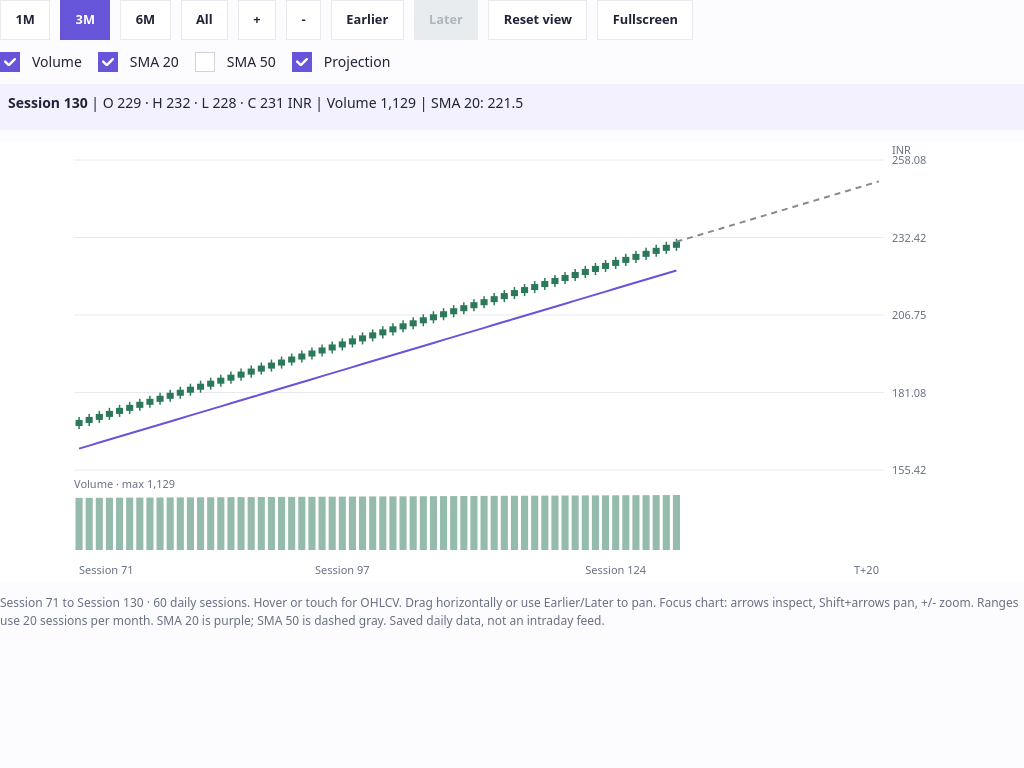
Test case: computes averages from full history, toggles indicators and enters/exits fullscreen
The width and height of the screenshot is (1024, 768).
Click the button "1M" at (25, 20), box [0,0,50,40]
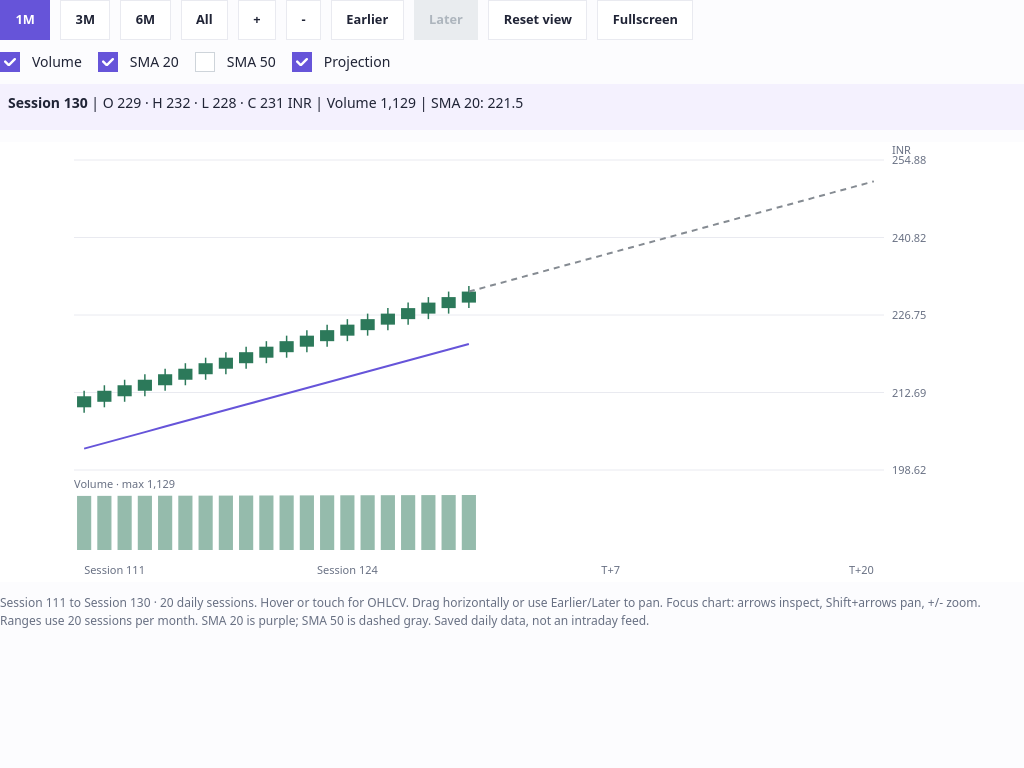
Click the button named "Zoom in" at (257, 20), box [238,0,276,40]
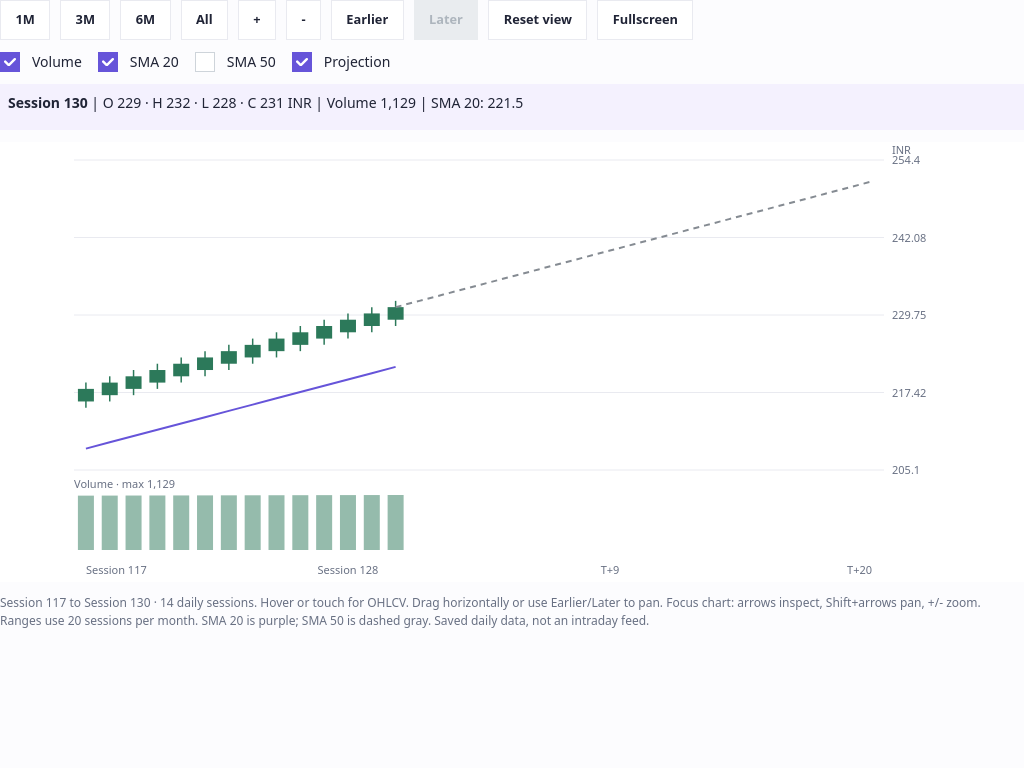
Expected: the element named "Selected chart values" shows "SMA 20: 221.5", [416,93,523,112]
Click the checkbox labelled "SMA 50" at (205, 62), box [195,52,215,72]
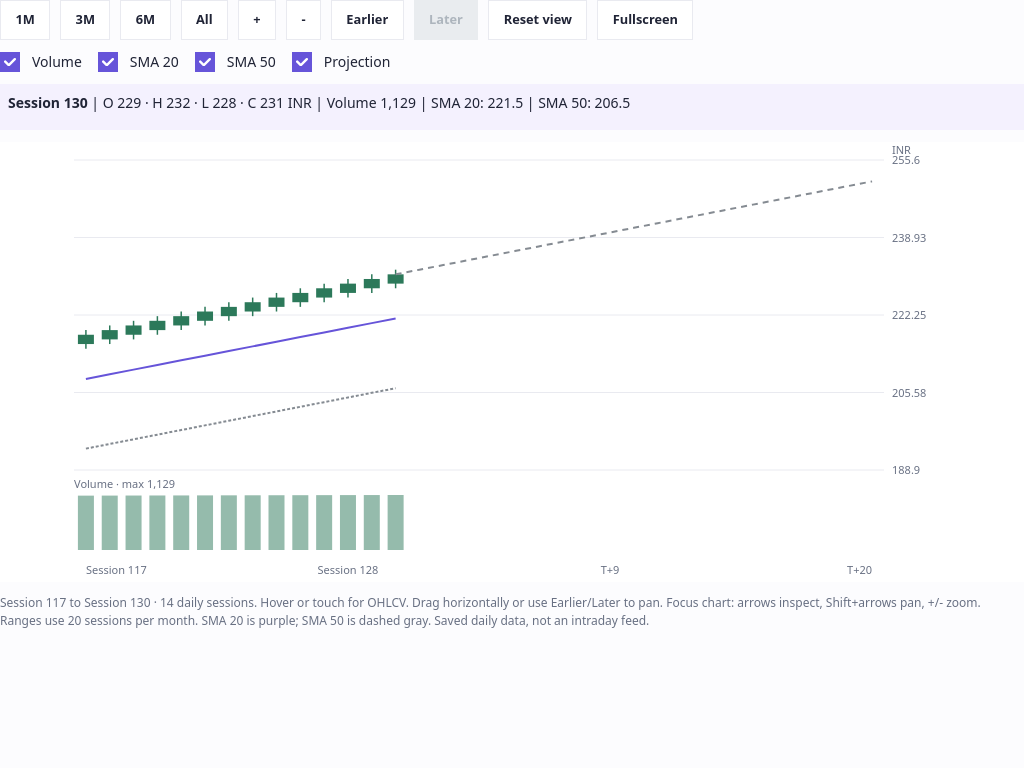
Expected: the element named "Selected chart values" shows "SMA 50: 206.5", [523,93,630,112]
Click the checkbox labelled "Volume" at (10, 62), box [0,52,20,72]
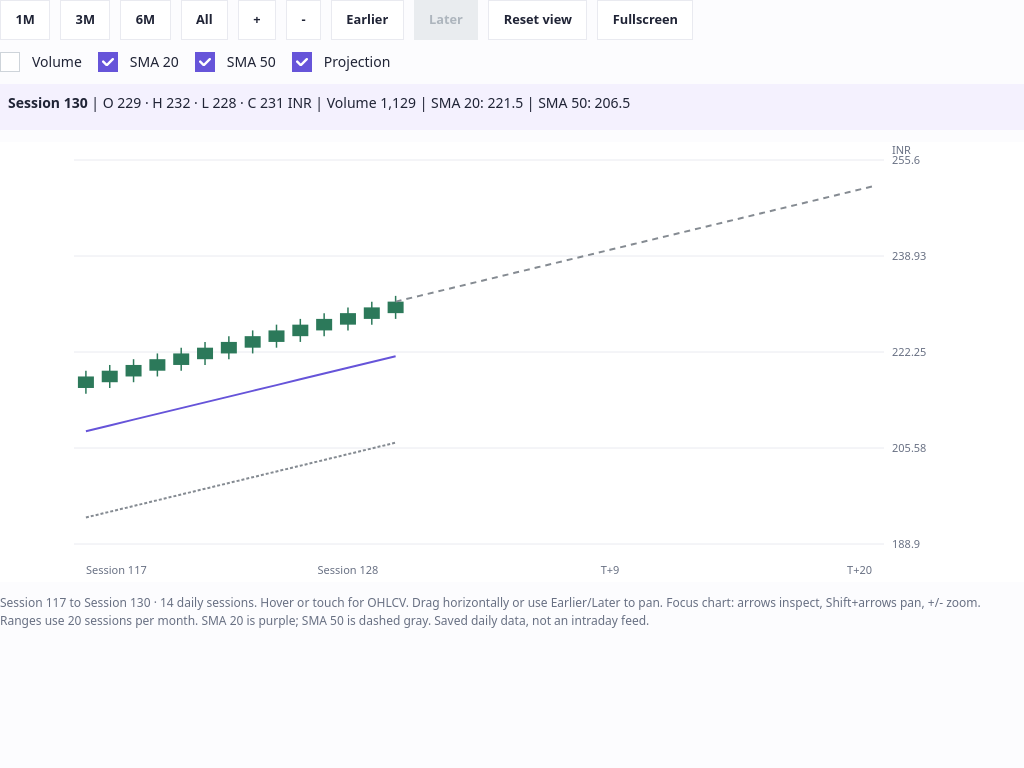
Click the button "Fullscreen" at (645, 20), box [597,0,693,40]
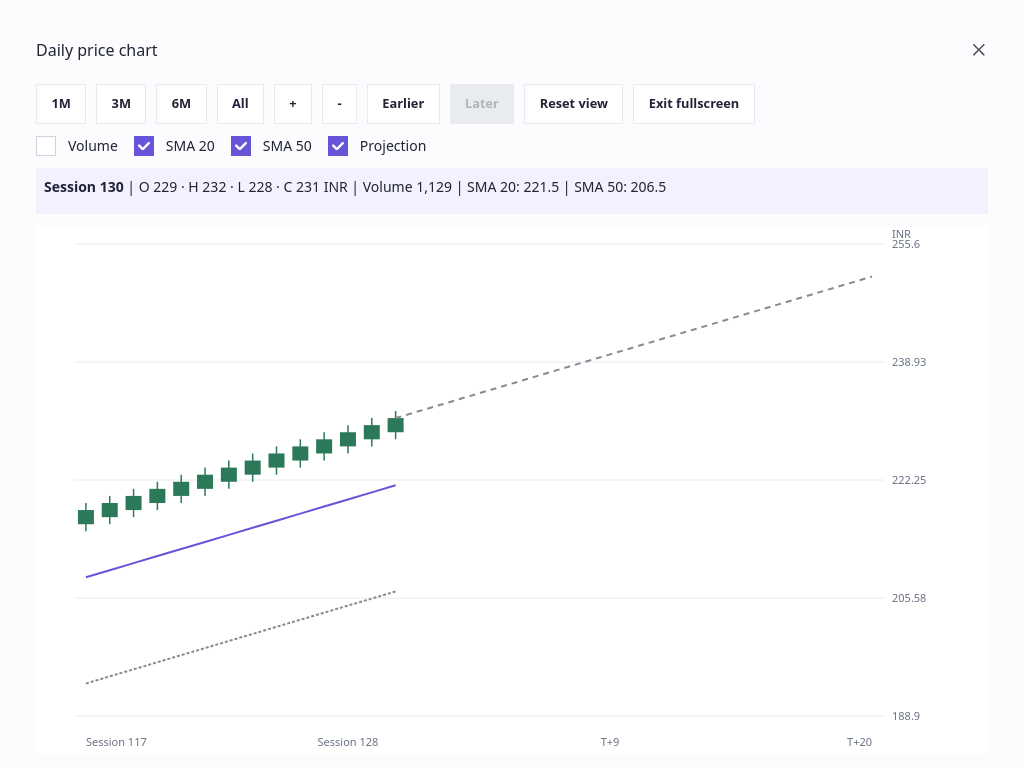
Expected: the dialog "Daily price chart" is shown
Click the button "Exit fullscreen" at (694, 104), box [633,84,755,124]
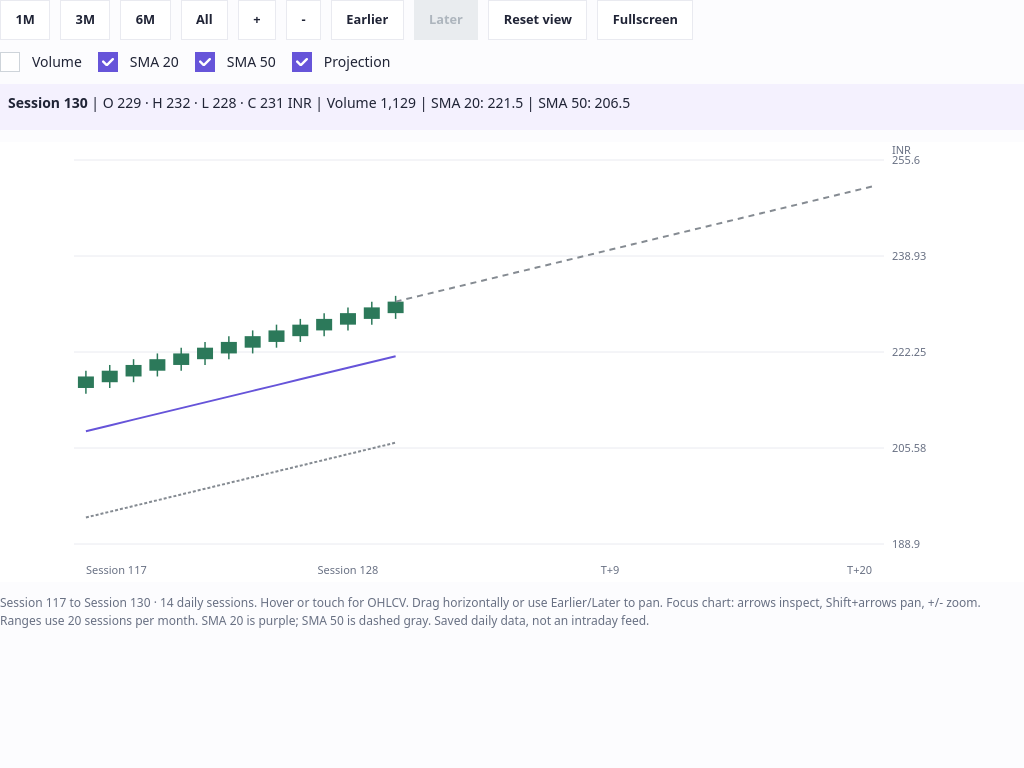
Expected: the dialog is gone
